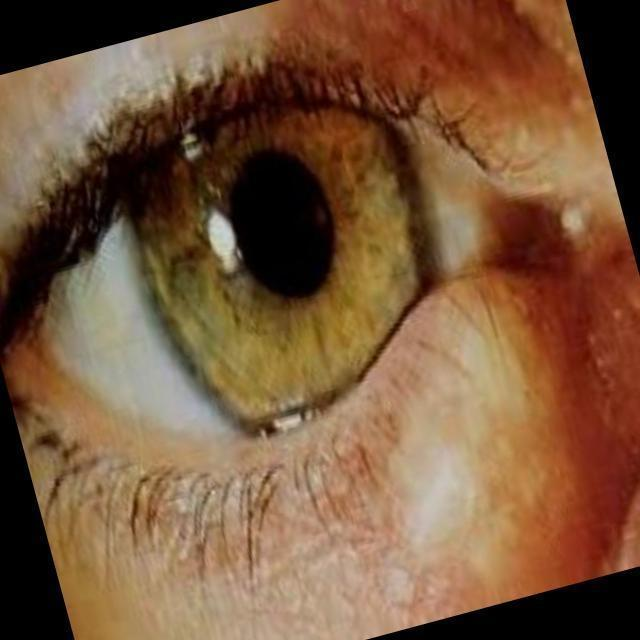Stye: (257, 220, 640, 640)
